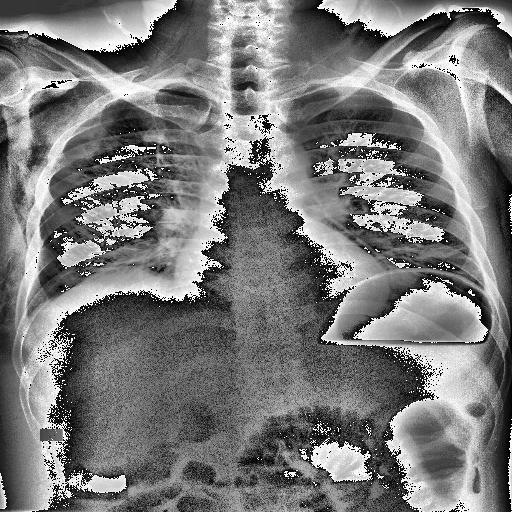11- Pleural thickening: (53, 96, 135, 136)
13- Pulmonary fibrosis: (103, 182, 141, 256), (375, 243, 475, 269), (106, 177, 127, 245), (384, 241, 464, 258)
9- Other lesion: (4, 127, 202, 291), (2, 142, 184, 292), (18, 112, 164, 244), (308, 270, 498, 320), (310, 205, 396, 311), (3, 258, 21, 342)
